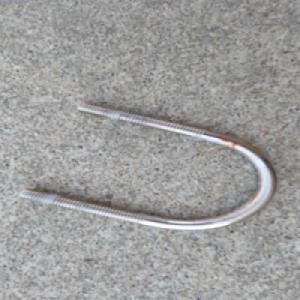ClampPart: (20, 99, 282, 231)
